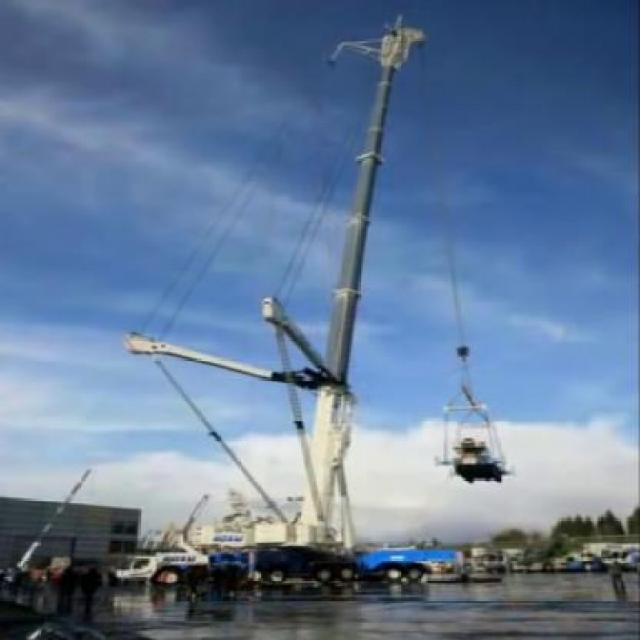Mobile Crane: (115, 24, 510, 584), (434, 438, 509, 484)
